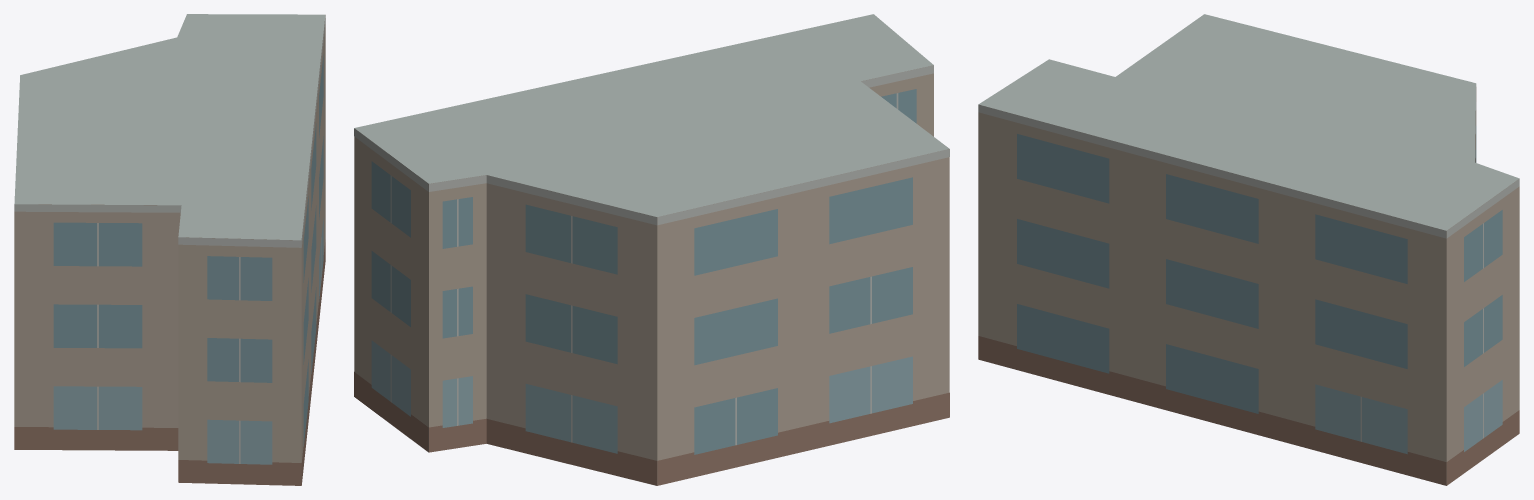
Rendered from survey-upis-32506548.glb.
3 renders of one model, left to right at view 1: azimuth 30°, elevation 25°; view 2: azimuth 150°, elevation 25°; view 3: azimuth 270°, elevation 25°, orthographic. The views are drawn at different scales.
Visible parts, largest first — view 1: survey-upis-32506548.tmp; view 2: survey-upis-32506548.tmp; view 3: survey-upis-32506548.tmp.
Boxes of the visible parts, <box> form: survey-upis-32506548.tmp: <box>14,14,325,485</box>; survey-upis-32506548.tmp: <box>354,14,949,485</box>; survey-upis-32506548.tmp: <box>978,14,1519,485</box>.
Bounding box in the file's own units: 14.5 × 7.95 × 15.3.
